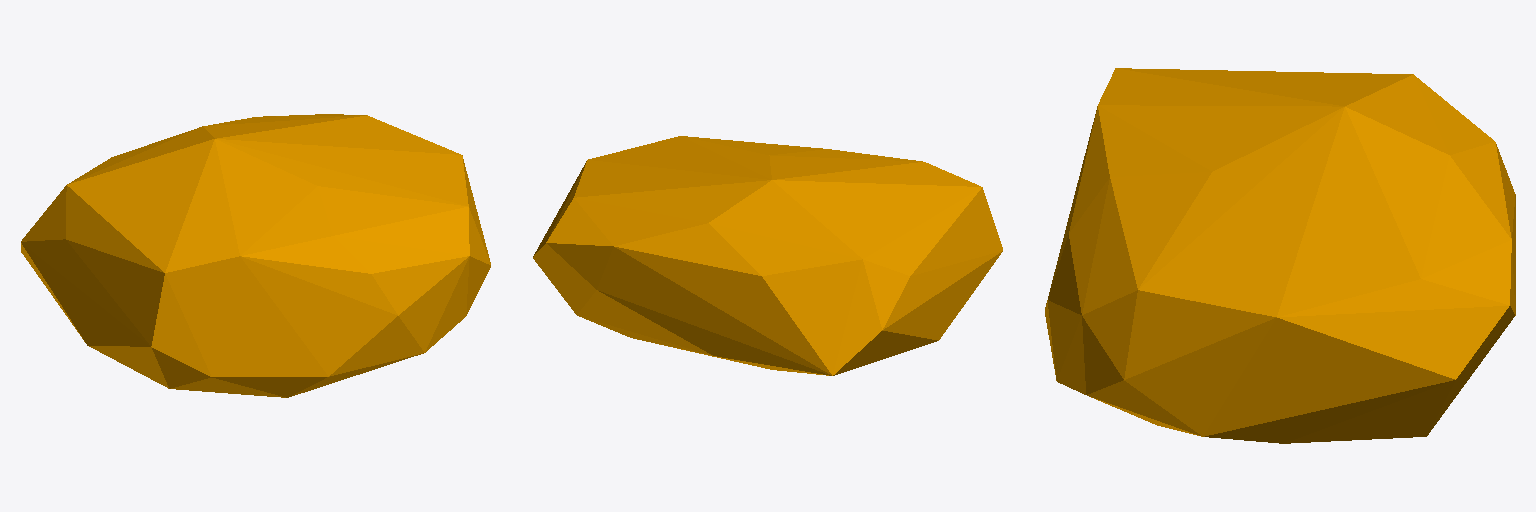
URDF robot description (058_019_2325):
<?xml version="1.0"?>
<robot name="058_019_2325">
  <link name="link">
    <contact>
      <lateral_friction value="0.6"/>
    </contact>
    <inertial>
      <mass value = "0.17350767983691687"/>
      <inertia ixx="3.863619371769174e-05" ixy="1.4125376936687982e-06" ixz="-3.4875587884525586e-07" iyy="5.4214731756784005e-05" iyz="1.6468061367321781e-06" izz="7.542150014625484e-05" />
    </inertial>
    <visual name="visual">
      <geometry>
        <mesh filename="058_019_2325.obj"/>
      </geometry>
    </visual>
    <collision name="collision">
      <geometry>
        <mesh filename="058_019_2325.obj"/>
      </geometry>
    </collision>
  </link>
</robot>

--- Facts derived from the render (not from the file) ---
Views: 3 orthographic renders of the robot side by side, from view 1: azimuth 30°, elevation 25°; view 2: azimuth 150°, elevation 25°; view 3: azimuth 270°, elevation 25°.
Model 058_019_2325 with 1 links and 0 joints (none), rooted at link, posed every joint at zero.
Visible links, largest first — view 1: link; view 2: link; view 3: link.
Boxes of the visible links, bbox=[...] form: link: bbox=[21, 114, 490, 397]; link: bbox=[533, 136, 1002, 375]; link: bbox=[1045, 68, 1515, 443].
Size in the robot's own frame: 0.0658 by 0.0538 by 0.0329 metres.
1 mesh visuals loaded from 1 distinct referenced files (1 OBJ).
